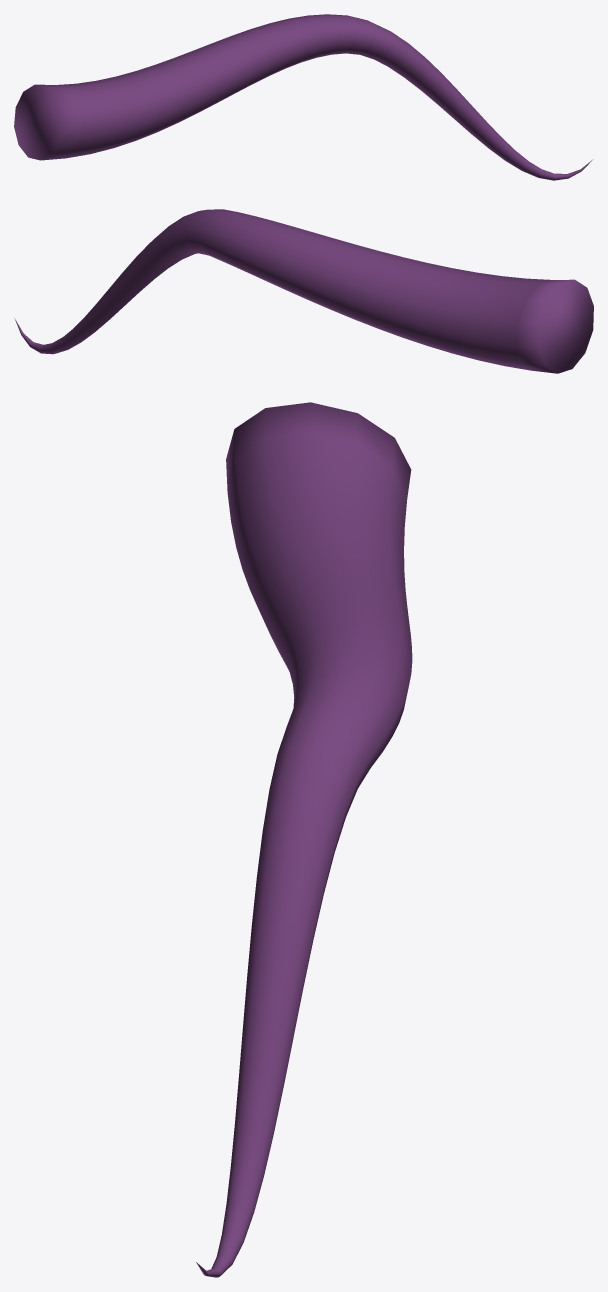
File: tentaculle attaque gauche.fbx
3 views of the same model, one above another, from view 1: azimuth 30°, elevation 25°; view 2: azimuth 150°, elevation 25°; view 3: azimuth 270°, elevation 25° (orthographic). The views are drawn at different scales.
Visible parts, largest first — view 1: tête.001; view 2: tête.001; view 3: tête.001.
Boxes of the visible parts, box(x1,y1,x2,y2) form: tête.001: box(14, 14, 593, 180); tête.001: box(14, 209, 593, 373); tête.001: box(196, 402, 412, 1277).
Size of the model in its own units: 3.32 by 1.16 by 0.5837.
